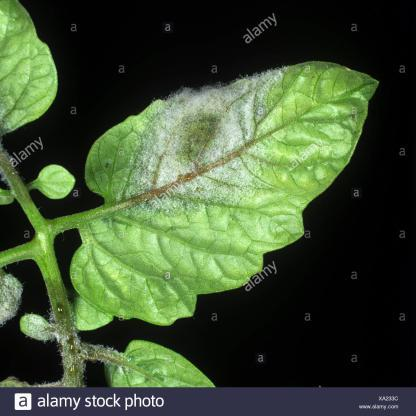Tomato leaf mosaic virus: (56, 54, 386, 328)
